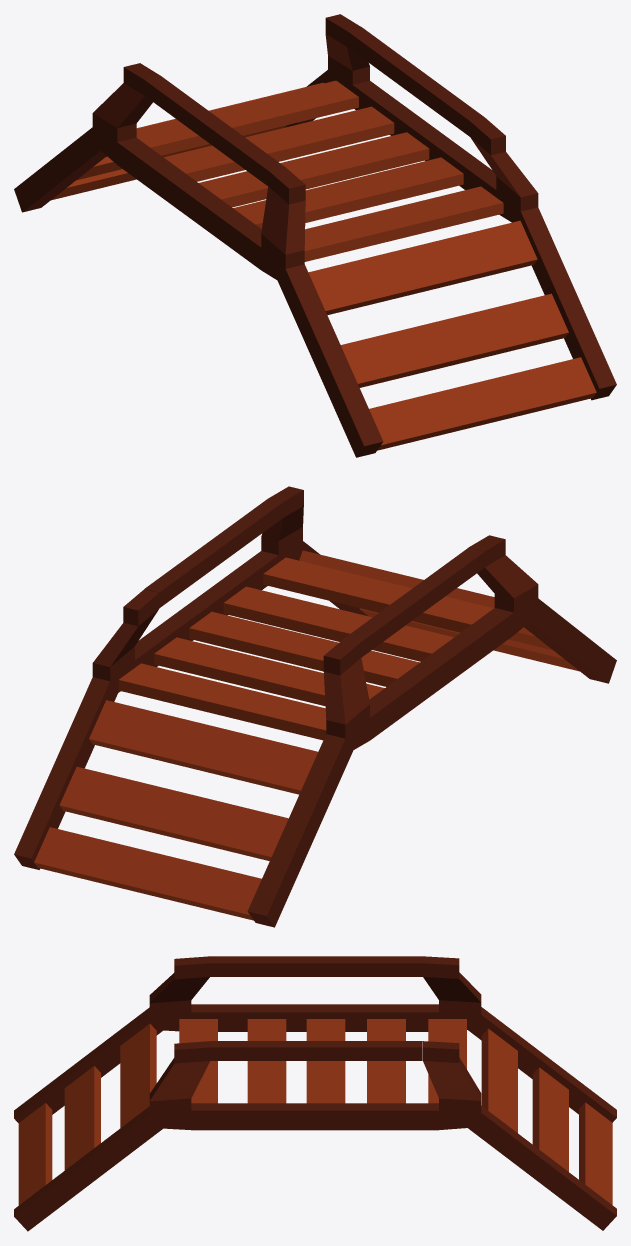
The model's file is bridge.fbx.
3 views of the same model, one above another, from view 1: azimuth 30°, elevation 25°; view 2: azimuth 150°, elevation 25°; view 3: azimuth 270°, elevation 25° (orthographic). The views are drawn at different scales.
Parts seen in each view (by area): view 1: Cube.001; view 2: Cube.001; view 3: Cube.001.
Part boxes in pixels (left/top/right/bottom): Cube.001: left=14, top=14, right=616, bottom=457; Cube.001: left=14, top=486, right=616, bottom=927; Cube.001: left=14, top=956, right=616, bottom=1231.
Bounding box in the file's own units: 128 × 99.62 × 308.
